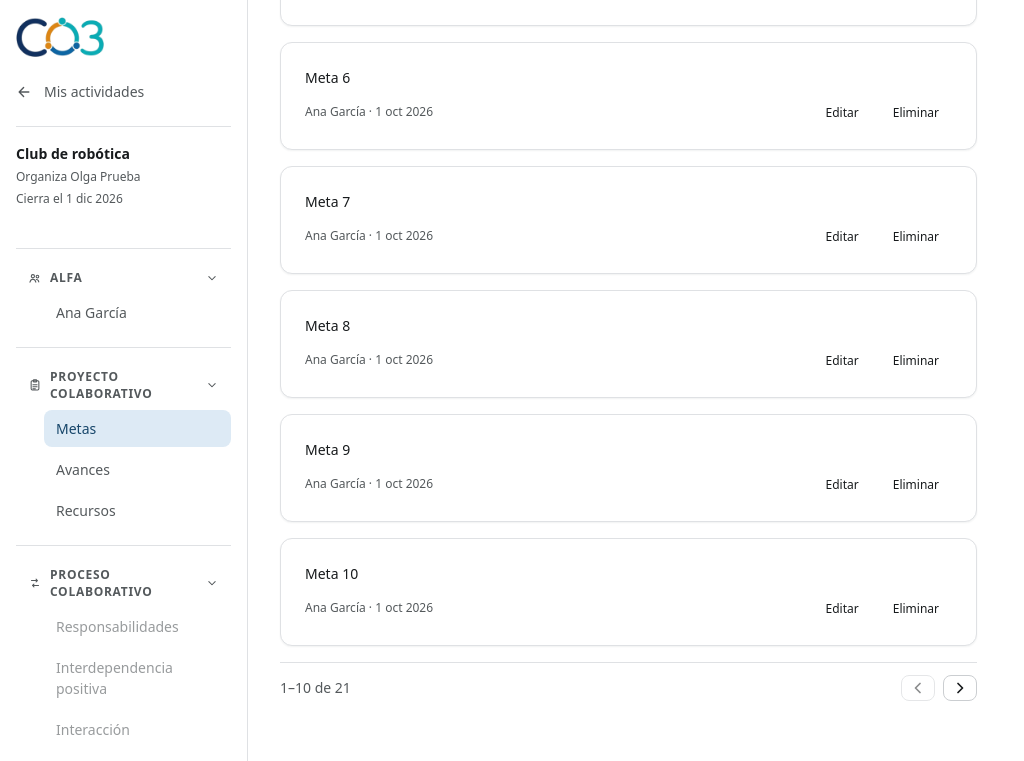
Test: PantallaEspacioEquipo › tras eliminar el único elemento de la última página, la paginación muestra un rango válido
(page scrolled)
What coordinates should you click on to do the following:
click the button named "Siguiente"
I would click on:
 (960, 688)
Its box is [943,674,977,700].
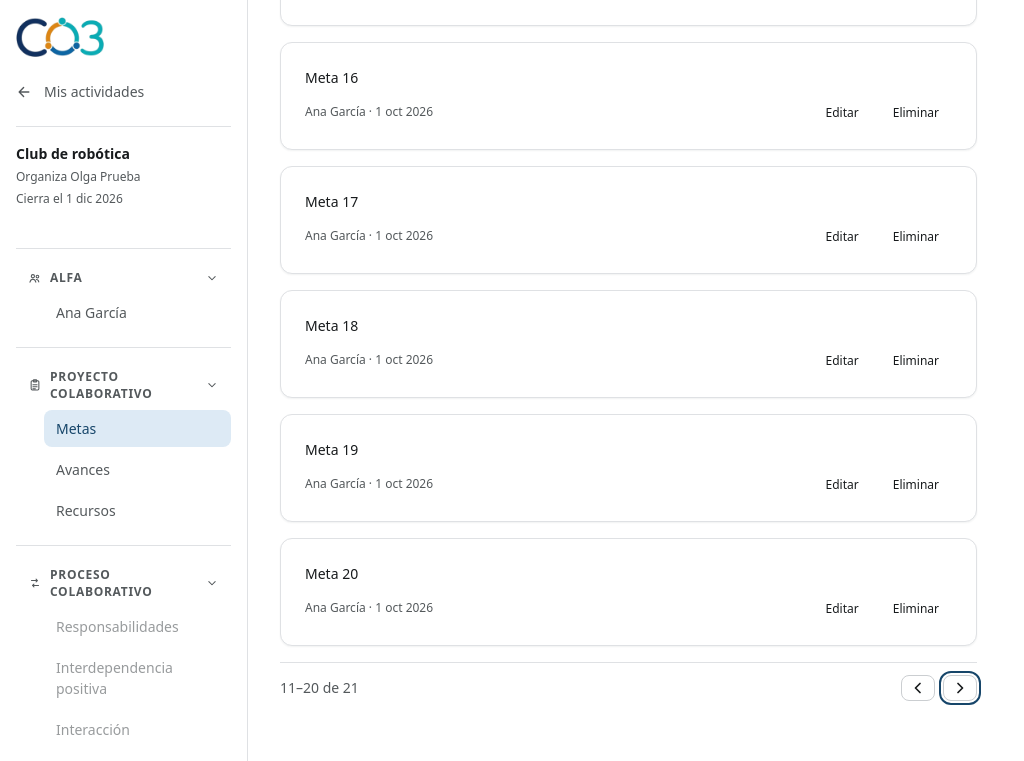
What coordinates should you click on to do the following:
click the button named "Siguiente"
I would click on:
 (960, 688)
Its box is [943,674,977,700].
(page scrolled)
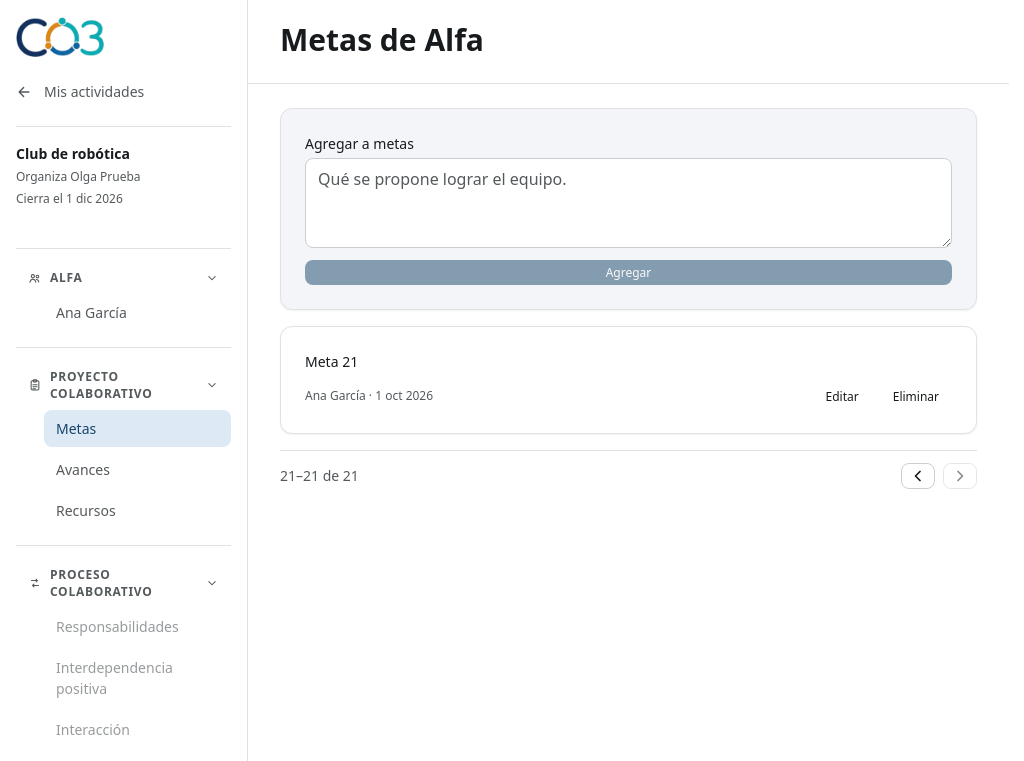
Check: the text "Meta 21" is shown, box [305,352,358,370]
What coordinates should you click on to do the following:
click the button "Eliminar"
I would click on:
 (916, 396)
Its box is [880,384,952,408].
(page scrolled)
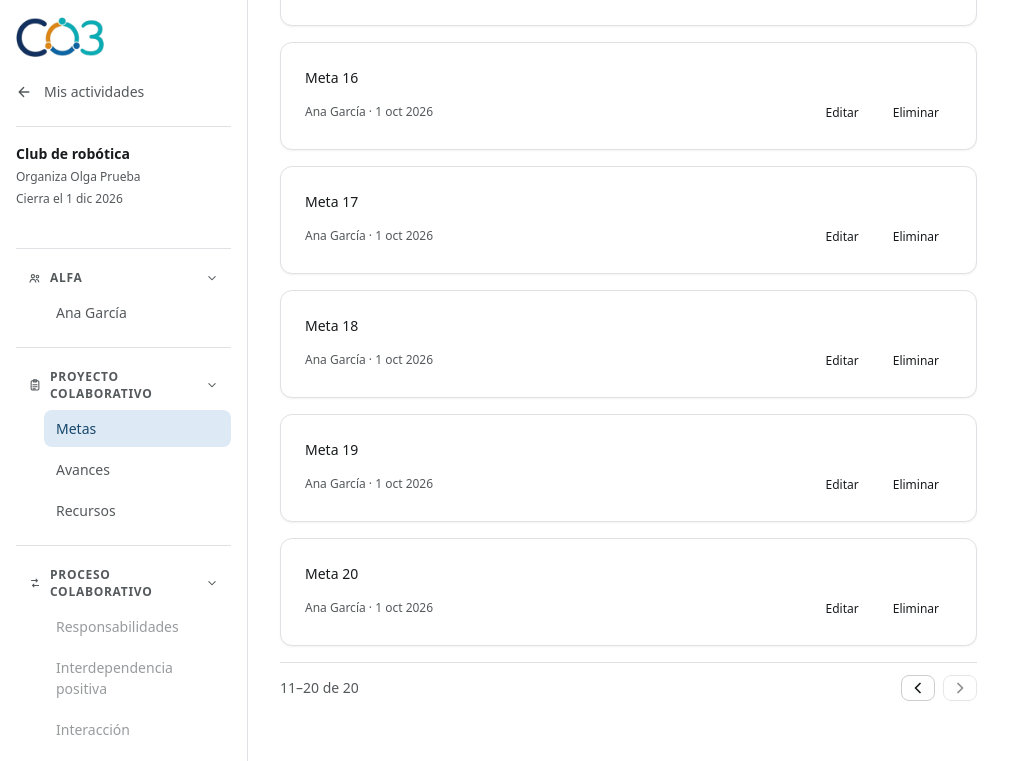
Check: the text "11–20 de 20" is shown, box [280,677,359,698]
